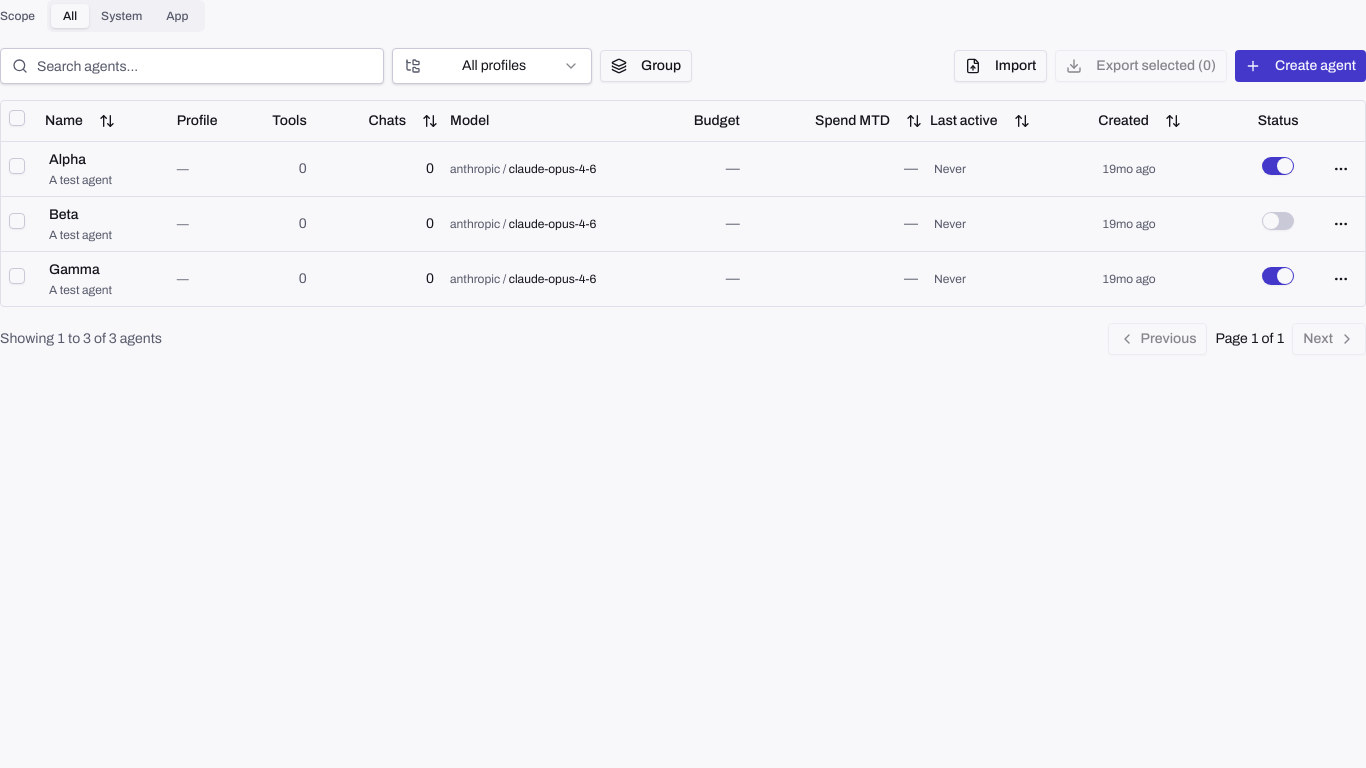
AgentsTable › bulk actions › opens bulk delete dialog when Delete selected is clicked
Click the checkbox named "Select Alpha": click(17, 166) x1=9 y1=158 x2=25 y2=174
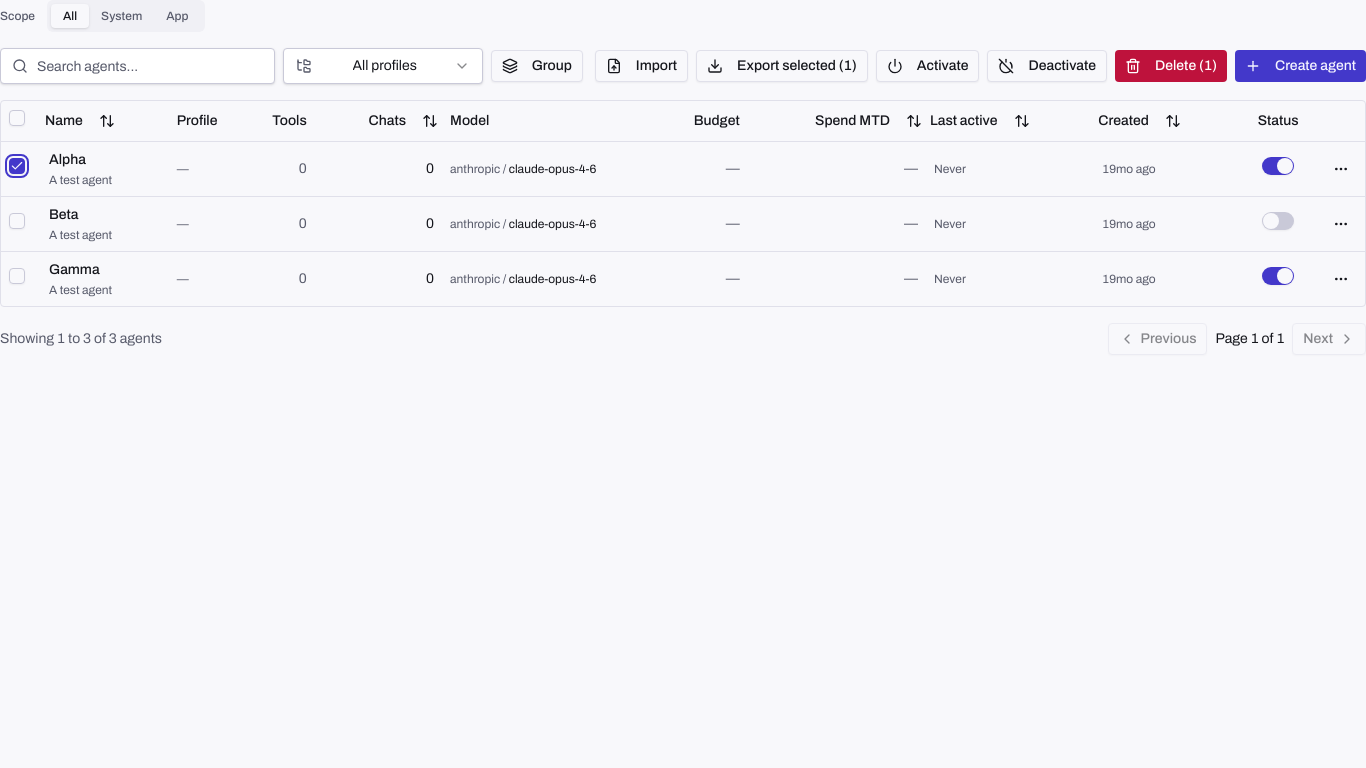
// click the destructive Delete button (shows count)
Click the button "Delete (1)": click(1171, 66) x1=1115 y1=50 x2=1227 y2=82
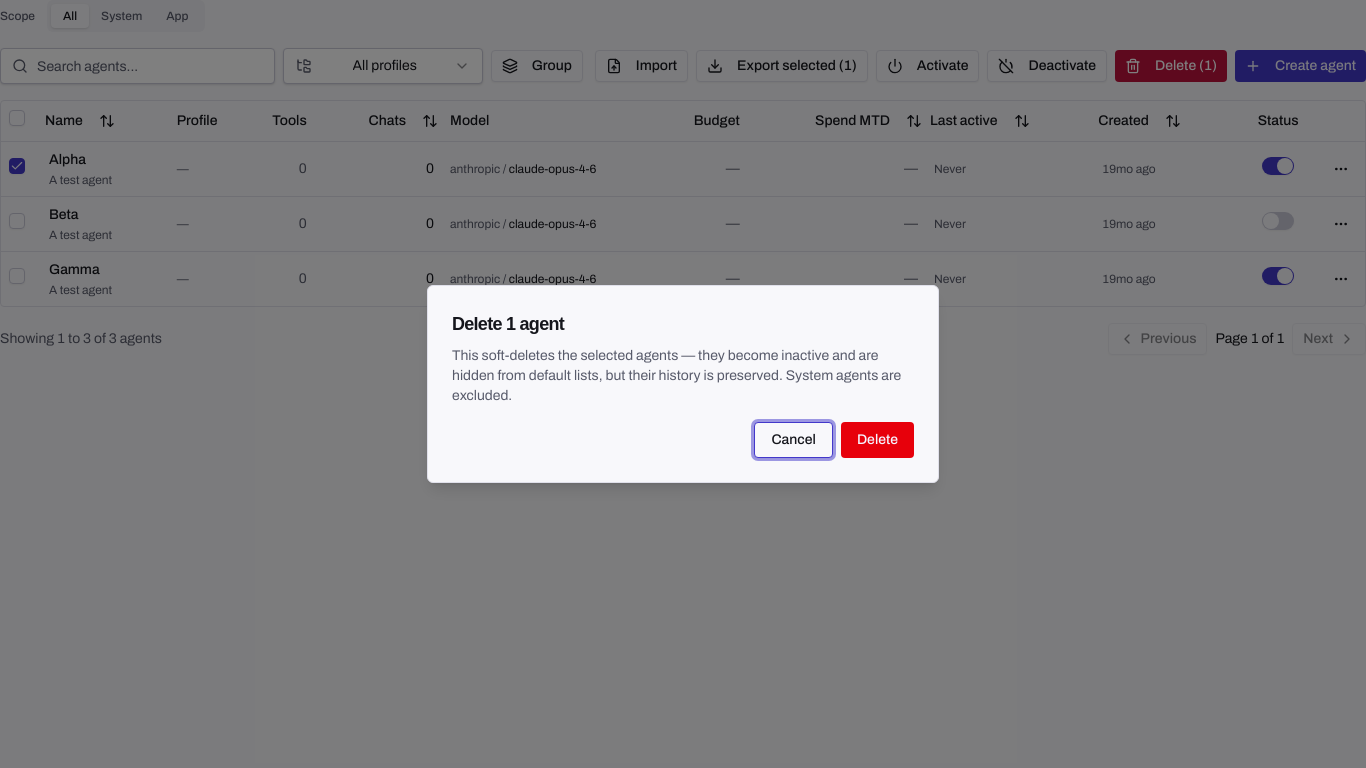
Expected: the heading "Delete 1 agent" is shown, x1=452 y1=314 x2=564 y2=334
